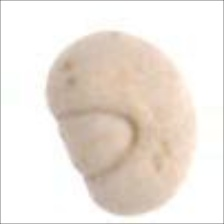L5: (54, 106, 142, 180)
L6: (43, 28, 199, 218)
